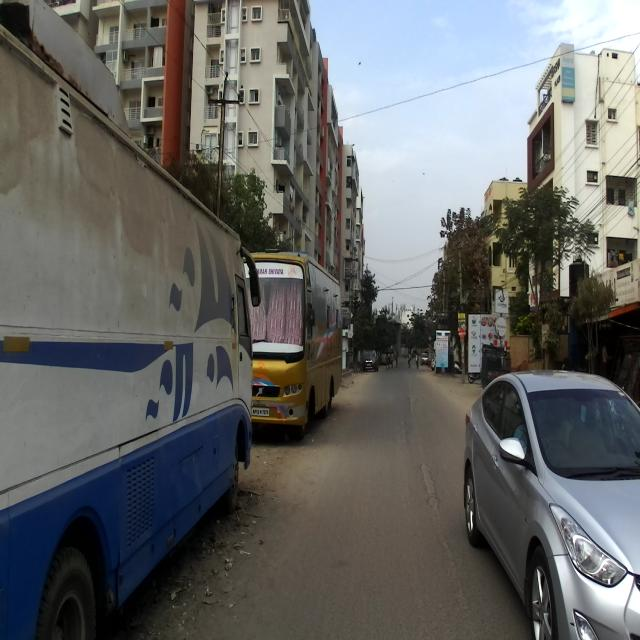bus ahead at: (257, 250, 343, 432)
car ahead at: (460, 371, 639, 640)
truck ahead at: (0, 0, 251, 640)
